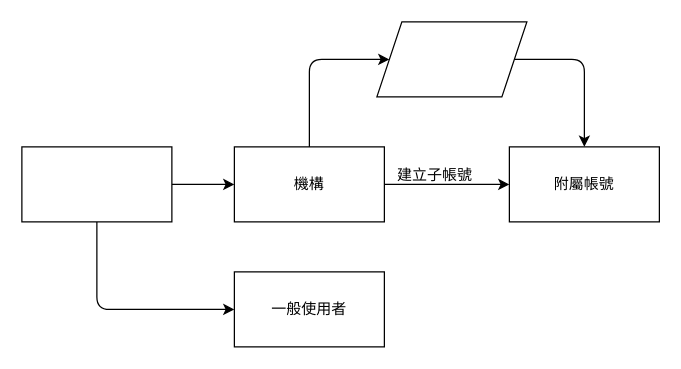
This 681x369 diagram has some shape labels left out. Each missing label, with the box of its shape:
分配手上卡組: (376, 21, 527, 97)
管理員: (21, 146, 172, 222)
